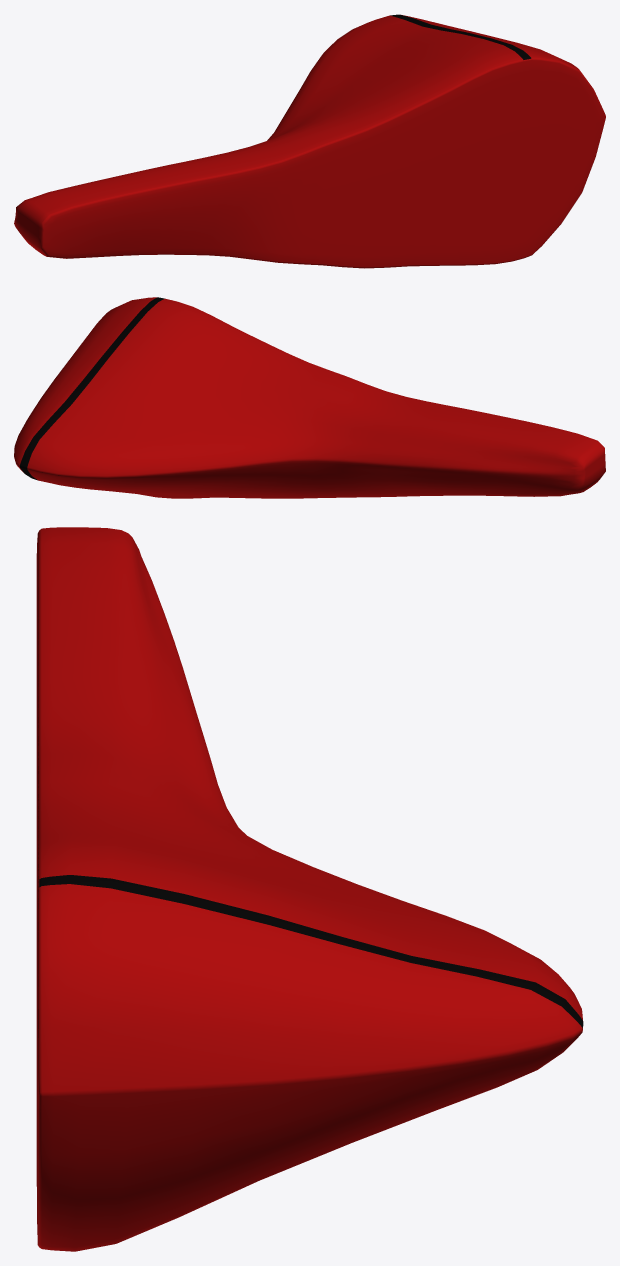
Rendered from Right_Wing.fbx.
The picture shows the model from 3 angles, top to bottom: view 1: azimuth 30°, elevation 25°; view 2: azimuth 150°, elevation 25°; view 3: azimuth 270°, elevation 25°; orthographic projection. The views are drawn at different scales.
Visible parts, largest first — view 1: pCube2; view 2: pCube2; view 3: pCube2.
Part boxes in pixels (x1,y1,x2,y2): pCube2: (14,14,605,268); pCube2: (14,297,605,498); pCube2: (36,527,583,1251).
Size of the model in its own units: 6.54 by 2.25 by 2.99.
